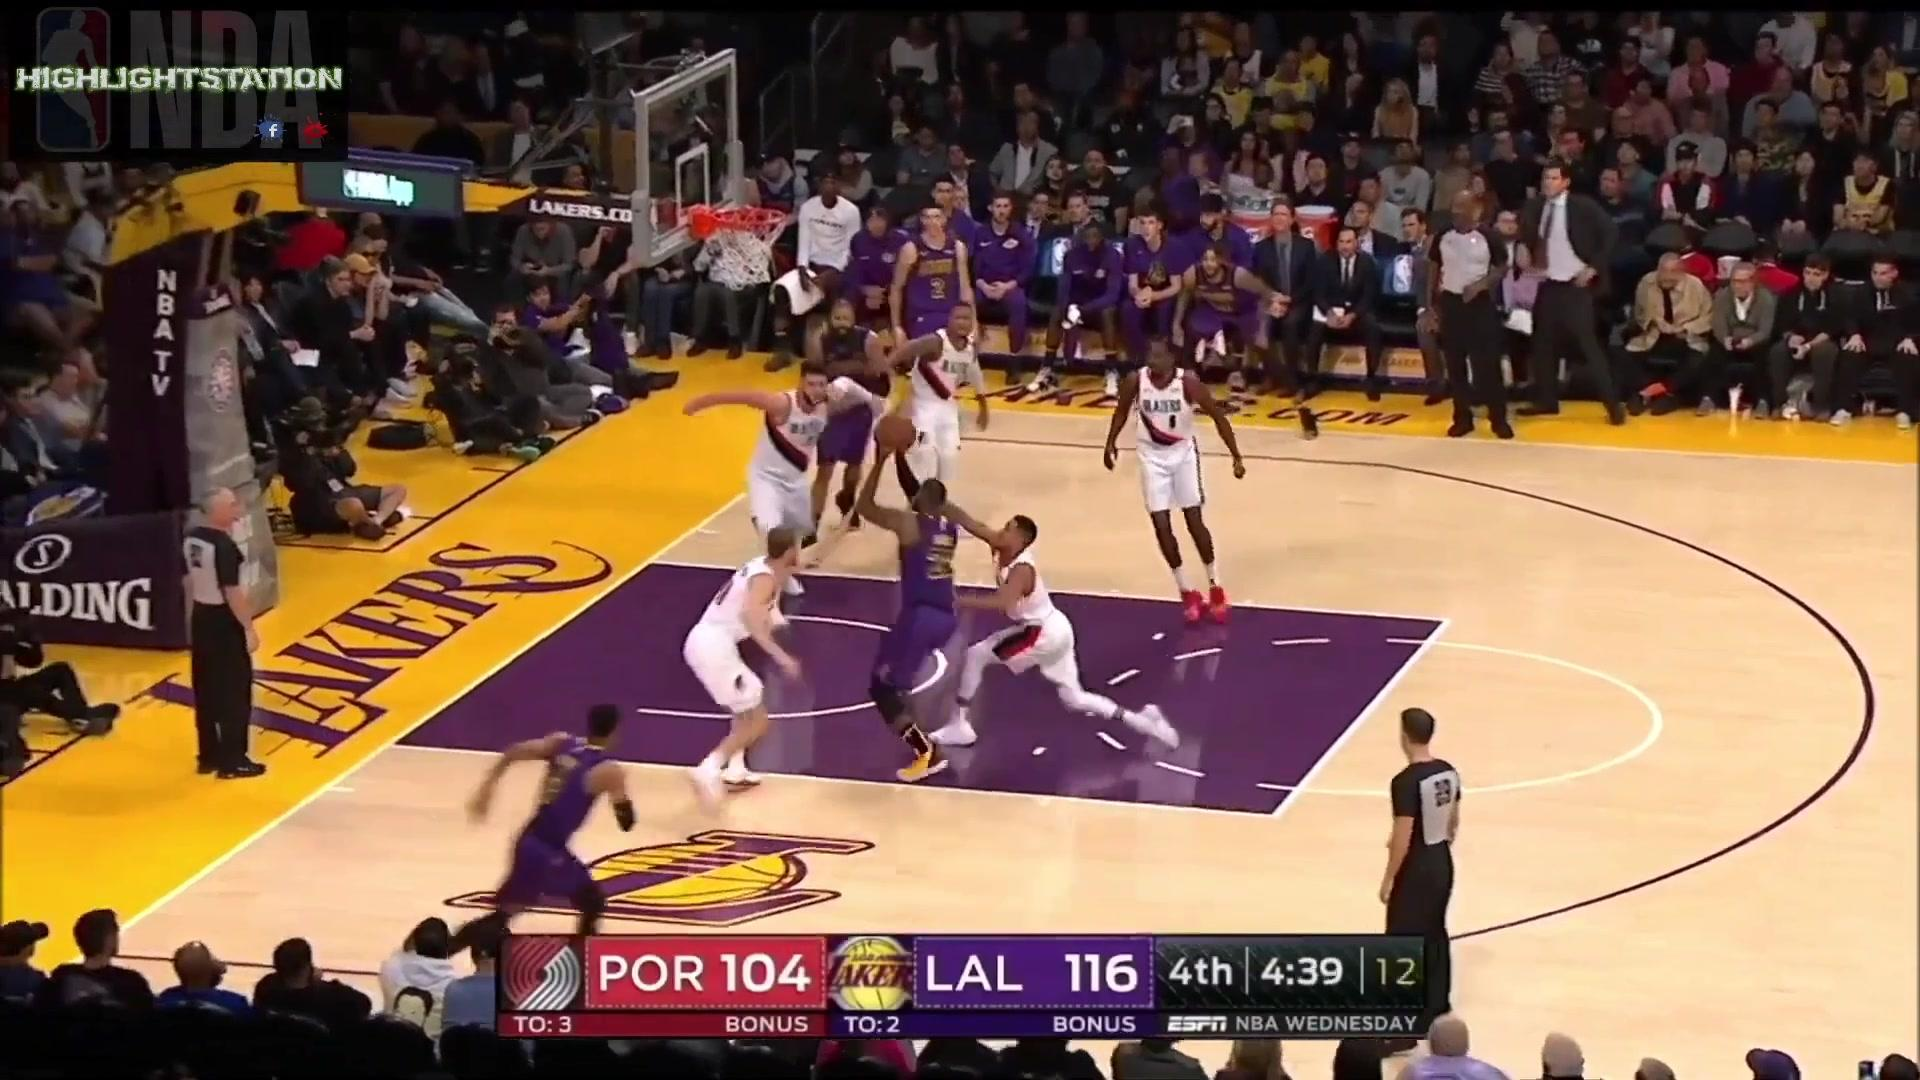no_foul: (841, 454, 1105, 789)
